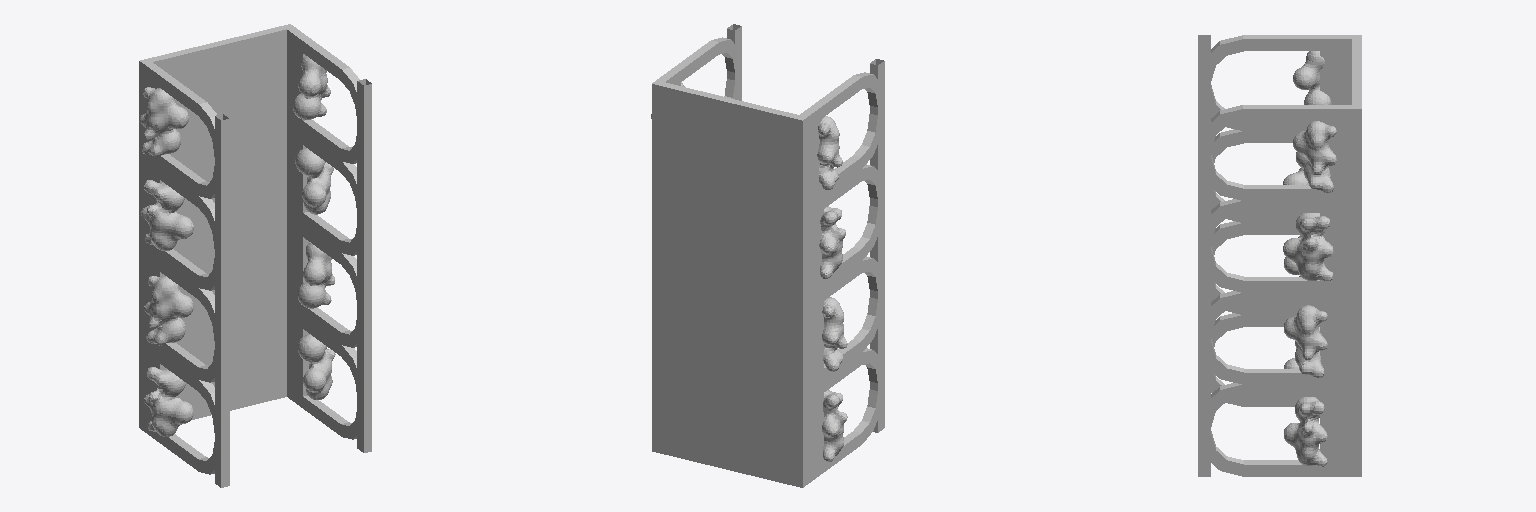
Rendered from module 7(bridge).obj.
3 views of the same model, side by side, from view 1: azimuth 30°, elevation 25°; view 2: azimuth 150°, elevation 25°; view 3: azimuth 270°, elevation 25° (orthographic).
Visible parts, largest first — view 1: bridge.003; view 2: bridge.003; view 3: bridge.003.
Part boxes in pixels (left/top/right/bottom): bridge.003: left=139, top=24, right=371, bottom=487; bridge.003: left=651, top=24, right=884, bottom=487; bridge.003: left=1198, top=35, right=1361, bottom=476.
Bounding box in the file's own units: 0.1111 × 0.2102 × 0.0849.